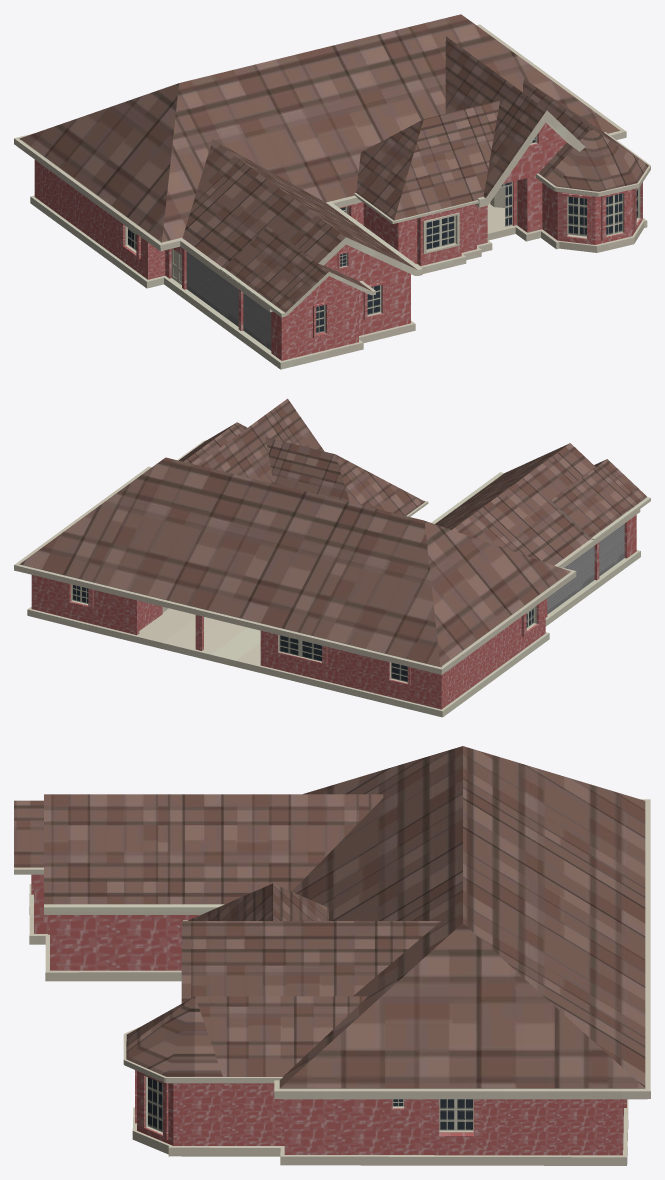
The model's file is FV_House1.glb.
3 renders of one model, top to bottom at view 1: azimuth 30°, elevation 25°; view 2: azimuth 150°, elevation 25°; view 3: azimuth 270°, elevation 25°, orthographic. The views are drawn at different scales.
Visible parts, largest first — view 1: Roof, Wall, Floor, Windows, WindowFrame, Garage, Garage.001; view 2: Roof, Wall, Floor, Windows, Garage, WindowFrame, Garage.001; view 3: Roof, Wall, Floor, WindowFrame, Windows.
Boxes of the visible parts, left/top/right/bottom form: Roof: left=14, top=14, right=650, bottom=317; Wall: left=34, top=122, right=642, bottom=360; Floor: left=30, top=195, right=647, bottom=369; Windows: left=128, top=136, right=637, bottom=333; WindowFrame: left=120, top=131, right=642, bottom=338; Garage: left=186, top=252, right=238, bottom=326; Garage.001: left=243, top=293, right=271, bottom=350; Roof: left=14, top=398, right=650, bottom=674; Wall: left=31, top=515, right=636, bottom=709; Floor: left=27, top=550, right=640, bottom=717; Windows: left=72, top=584, right=534, bottom=682; Garage: left=547, top=546, right=594, bottom=614; WindowFrame: left=66, top=583, right=540, bottom=686; Garage.001: left=599, top=524, right=624, bottom=576; Roof: left=14, top=746, right=650, bottom=1099; Wall: left=34, top=874, right=623, bottom=1155; Floor: left=29, top=884, right=628, bottom=1165; WindowFrame: left=31, top=874, right=626, bottom=1140; Windows: left=148, top=1077, right=473, bottom=1132.
Size of the model in its own units: 79.95 by 24.07 by 73.62.
2 materials, 2 textured.
